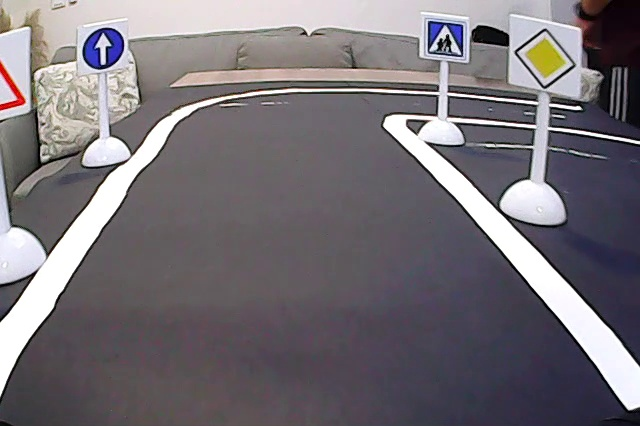school crossing: (422, 14, 469, 63)
